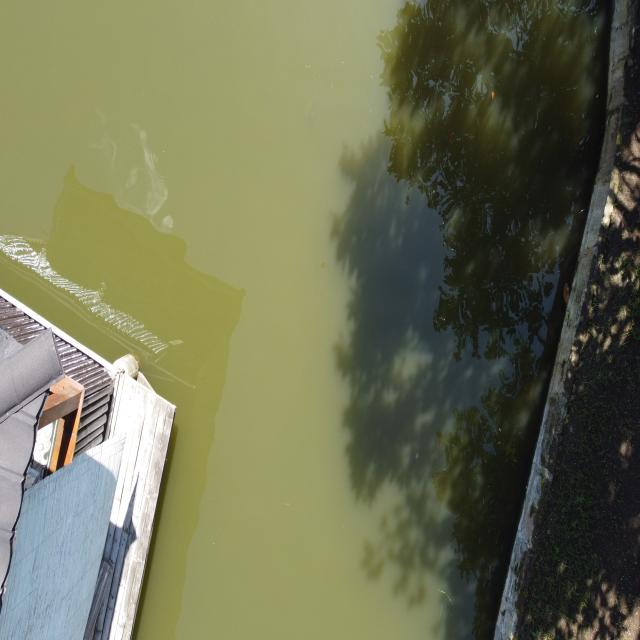Ponds: (1, 1, 634, 640)
